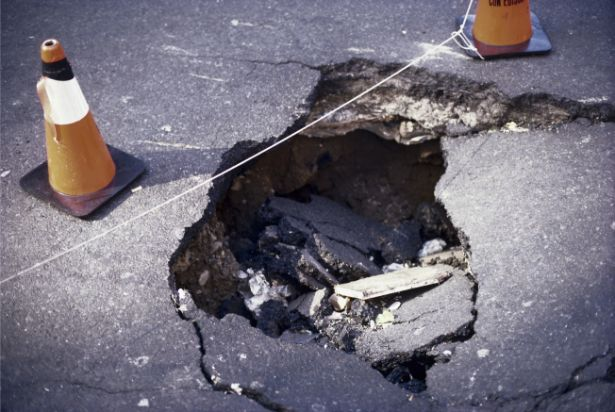pothole: (161, 54, 579, 396)
